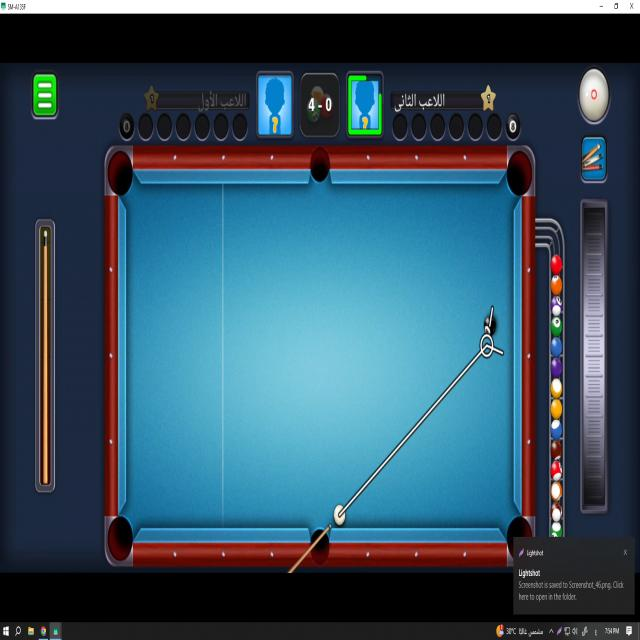object_ball: (482, 313, 498, 337)
white_cue_ball: (334, 505, 345, 525)
